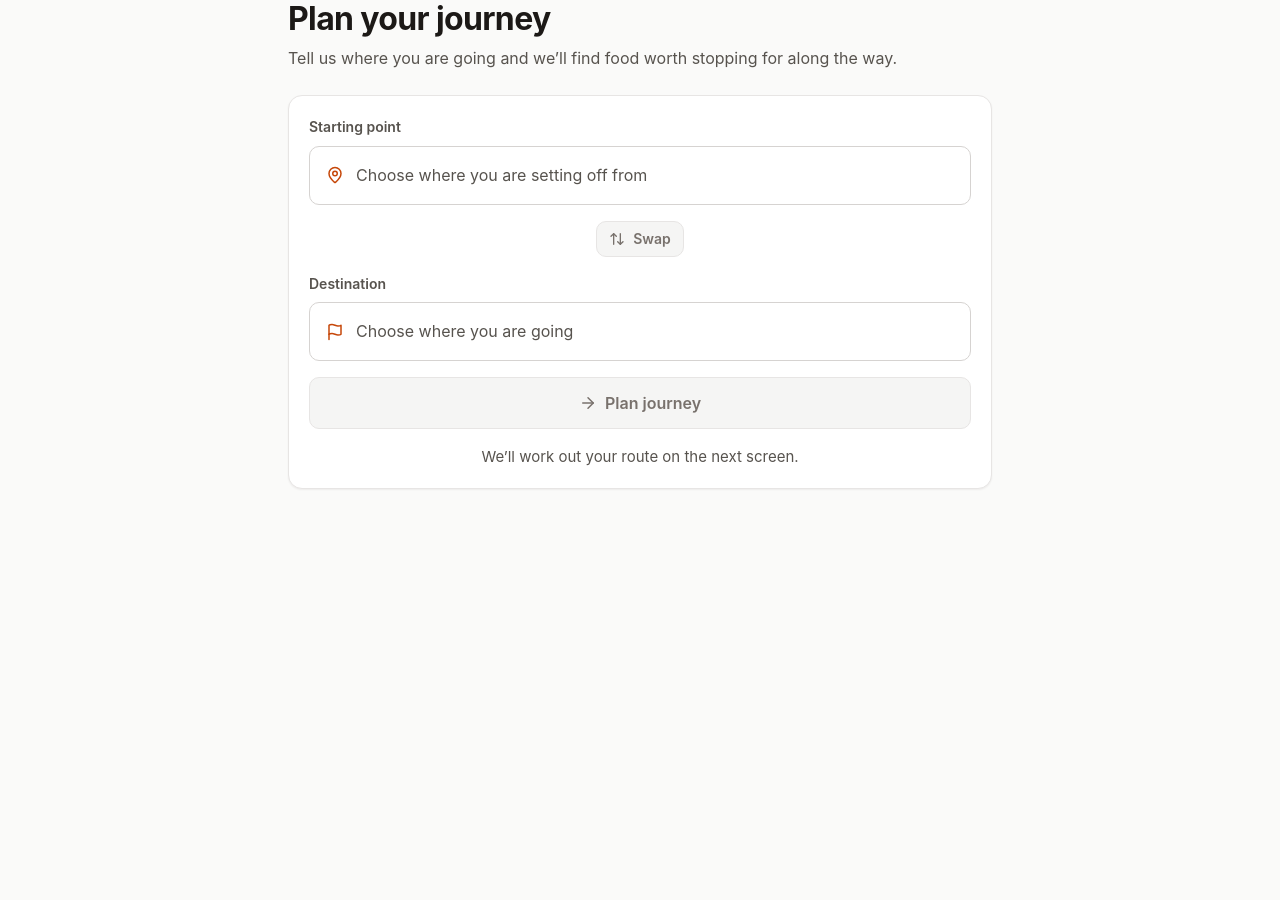
Test case: TripPlannerScreen › will not plan a journey until both ends are chosen
Expected: the button "Plan journey" is disabled, [309,377,971,429]
Click the button with aria-label "Starting point" at (640, 175), box [309,146,971,205]
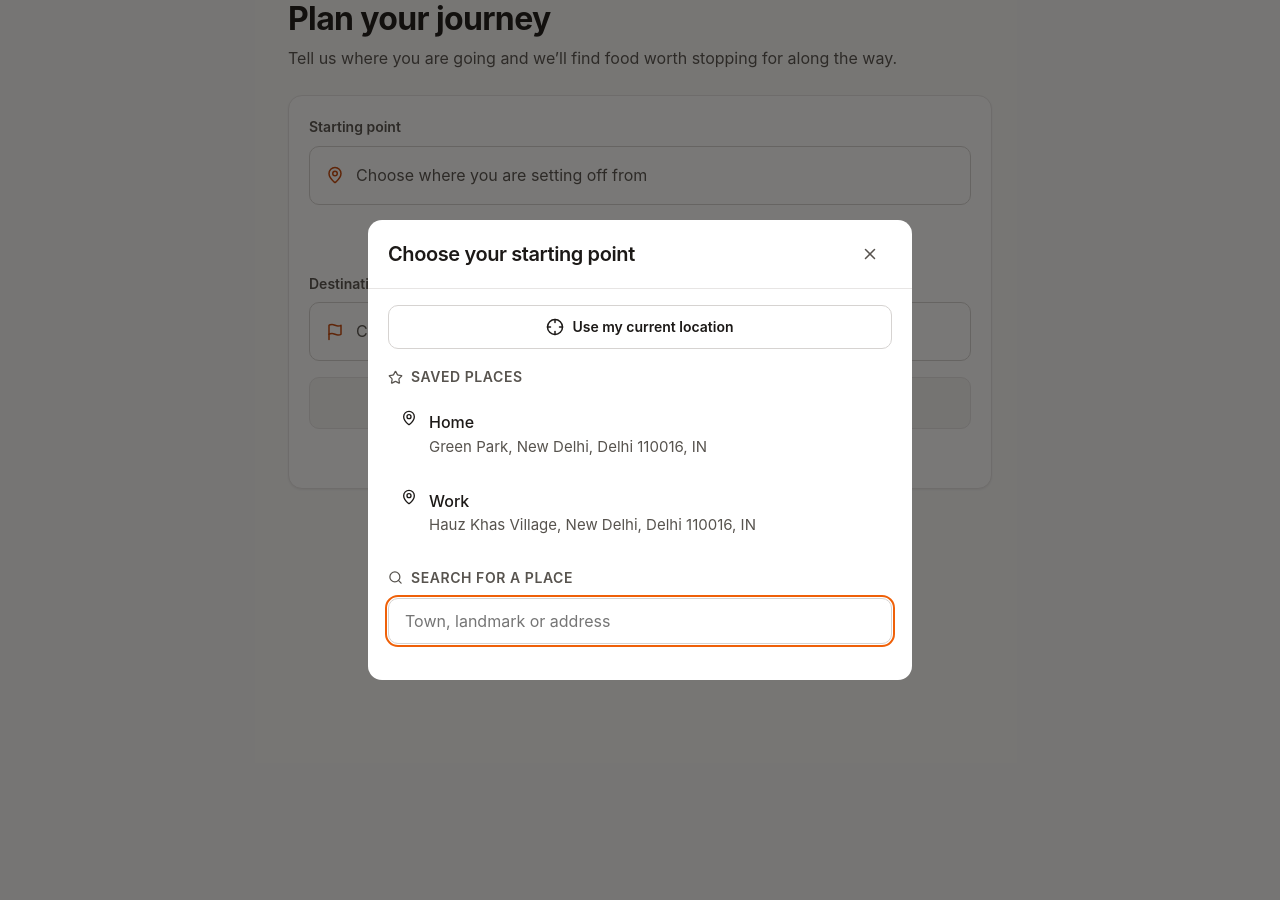
Click the button "Home Green Park, New Delhi, Delhi 110016, IN" at (640, 434), box [388,398,892,472]
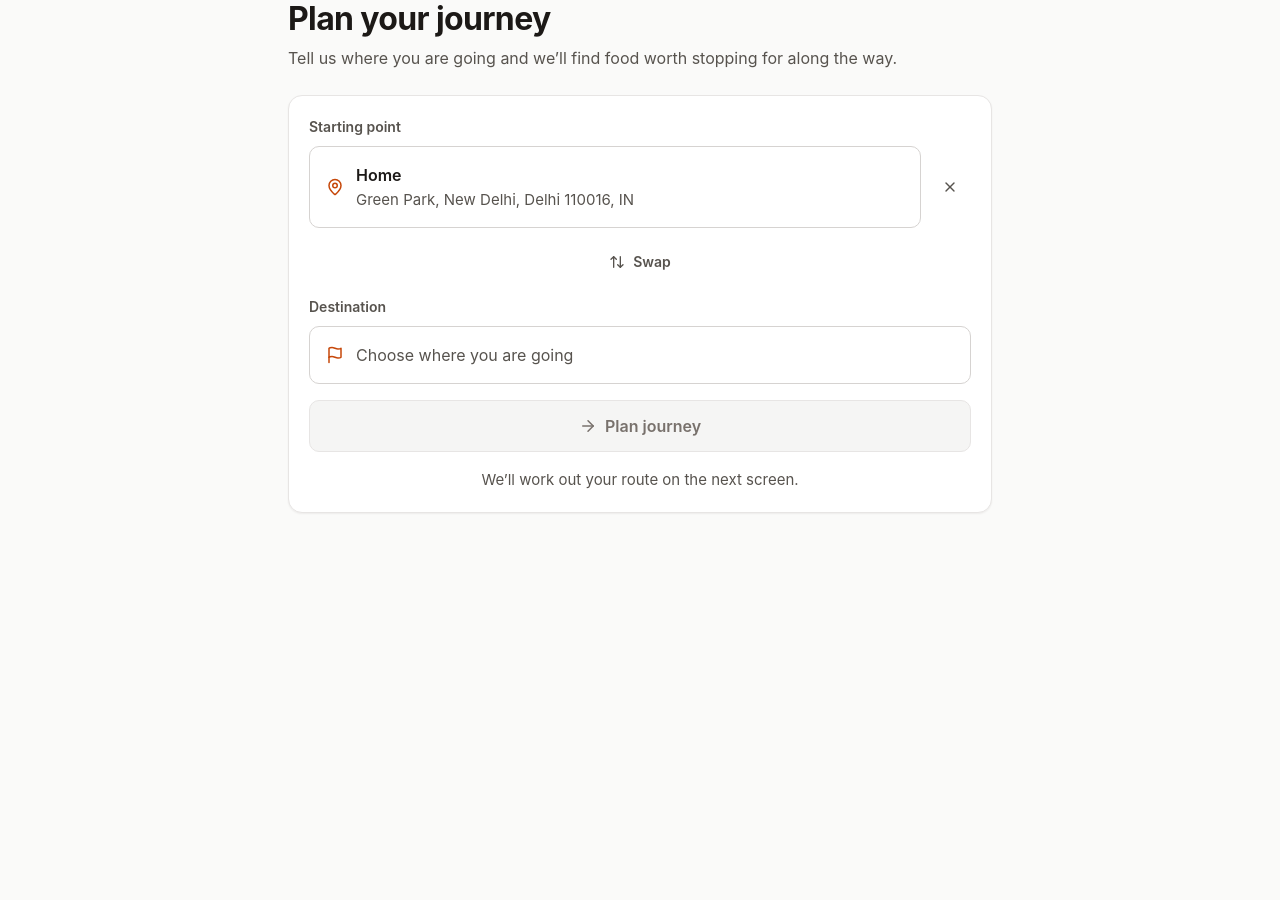
Expected: the button "Plan journey" is disabled, [309,400,971,452]
Click the button with aria-label "Destination" at (465, 355), box [309,326,971,384]
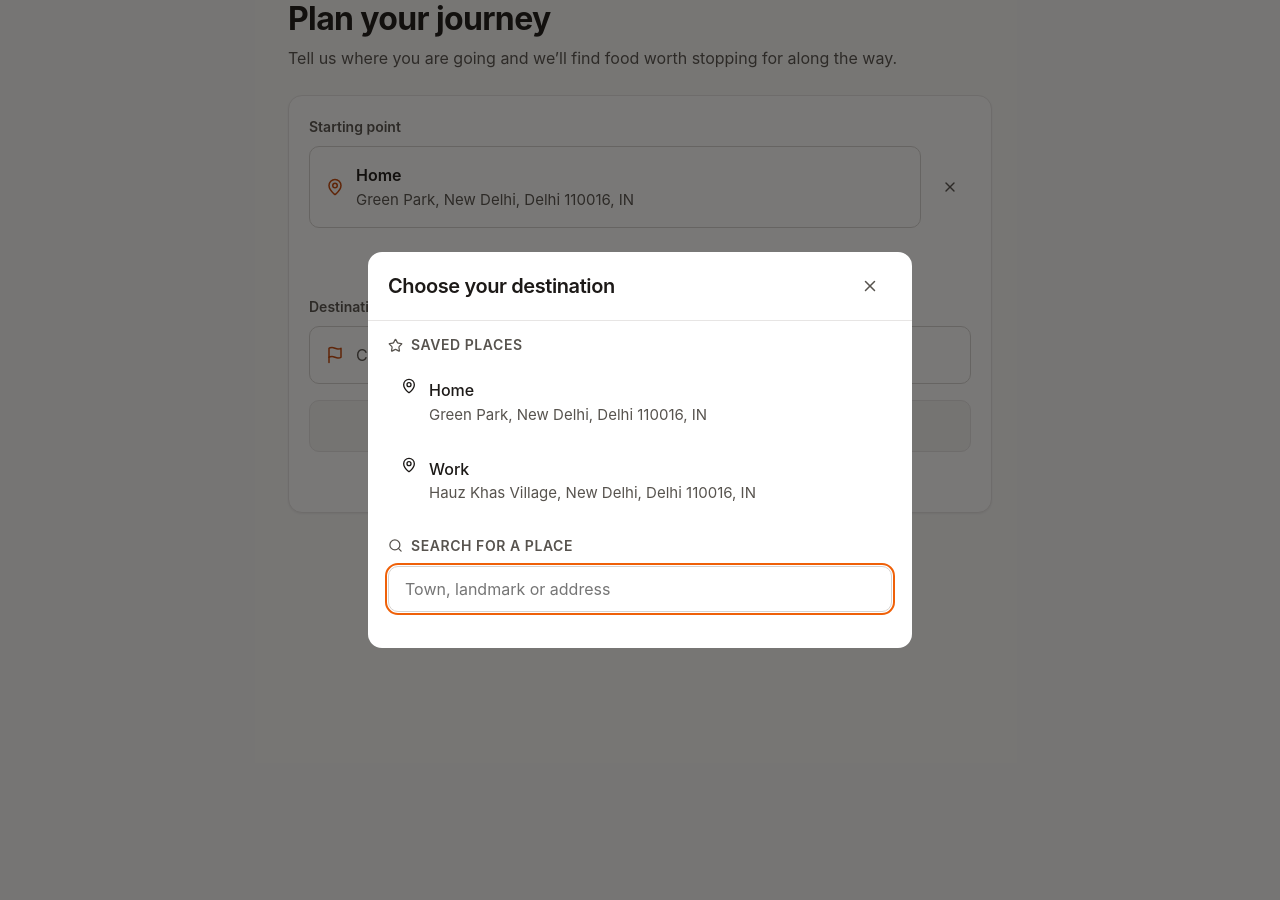
Click the button "Work Hauz Khas Village, New Delhi, Delhi 110016, IN" at (640, 480), box [388,444,892,518]
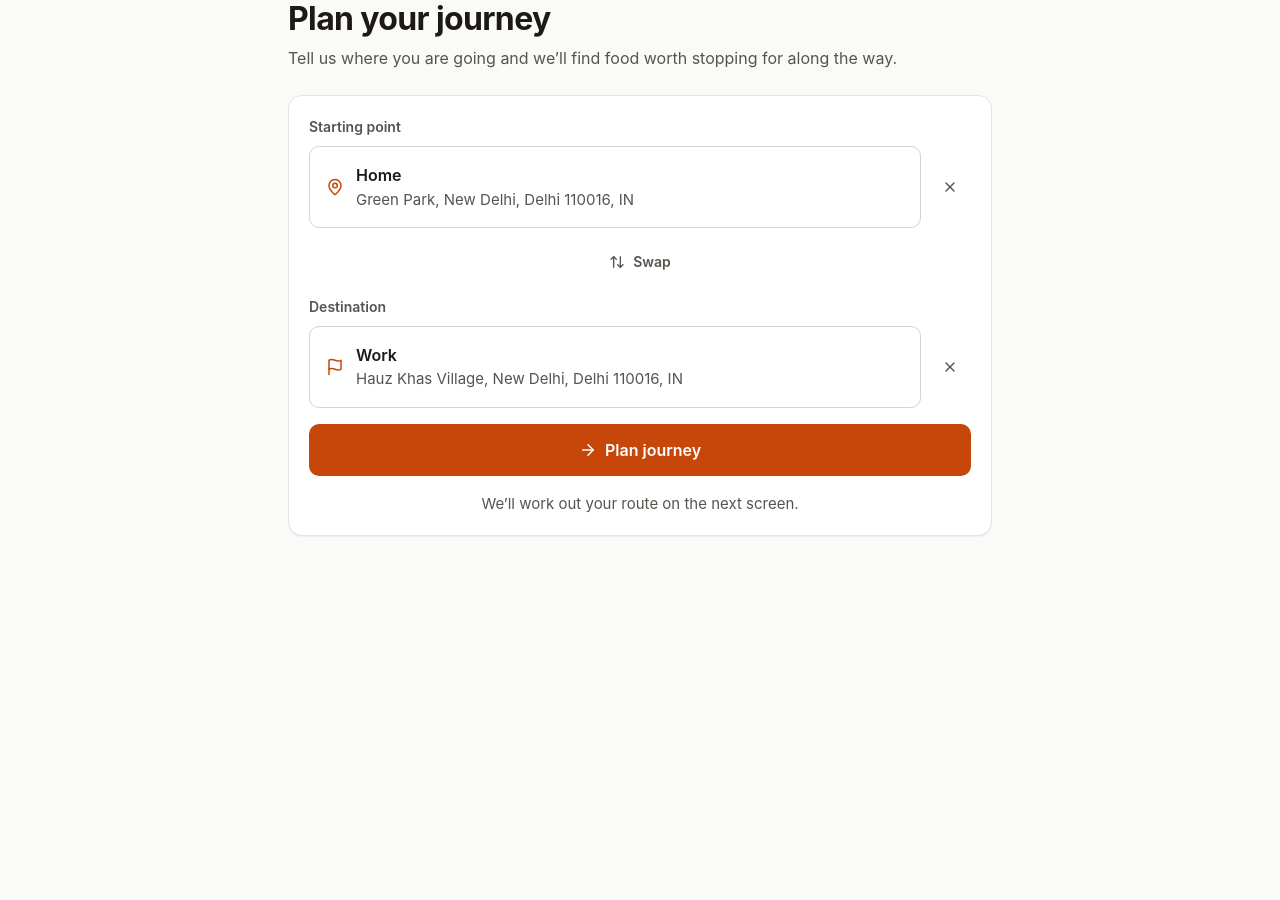
Expected: the button "Plan journey" is enabled, [309,424,971,476]
